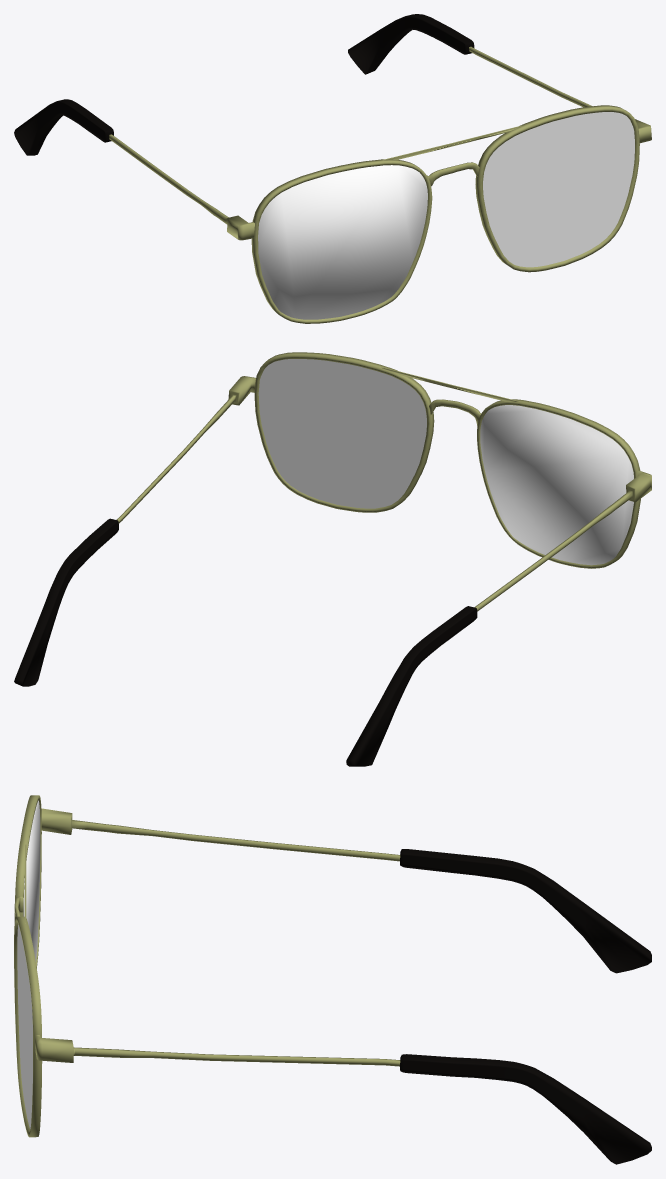
Rendered from glasses-2.glb.
3 views of the same model, one above another, from view 1: azimuth 30°, elevation 25°; view 2: azimuth 150°, elevation 25°; view 3: azimuth 270°, elevation 25° (orthographic). The views are drawn at different scales.
Visible parts, largest first — view 1: zdaja 2, dwira 7did, Plane.001, karkas.003, Plane; view 2: zdaja 2, Plane.001, dwira 7did, karkas.003; view 3: Plane.001, karkas.003, dwira 7did, zdaja 2.
Boxes of the visible parts, box(x1,y1,x2,y2) form: zdaja 2: box(258, 112, 634, 319); dwira 7did: box(251, 105, 639, 323); Plane.001: box(14, 14, 474, 155); karkas.003: box(109, 46, 651, 240); Plane: box(383, 125, 522, 160); zdaja 2: box(258, 359, 633, 565); Plane.001: box(14, 518, 477, 766); dwira 7did: box(254, 352, 640, 568); karkas.003: box(116, 376, 651, 611); Plane.001: box(400, 849, 651, 1164); karkas.003: box(35, 808, 400, 1066); dwira 7did: box(14, 795, 42, 1137); zdaja 2: box(17, 800, 40, 1128).
Bounding box in the file's own units: 2.09 × 0.768 × 2.39.
